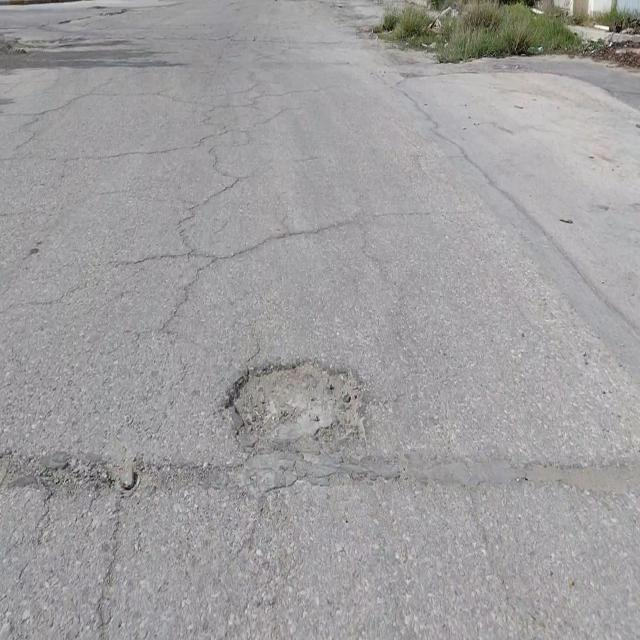Potholes: (220, 356, 366, 447)
